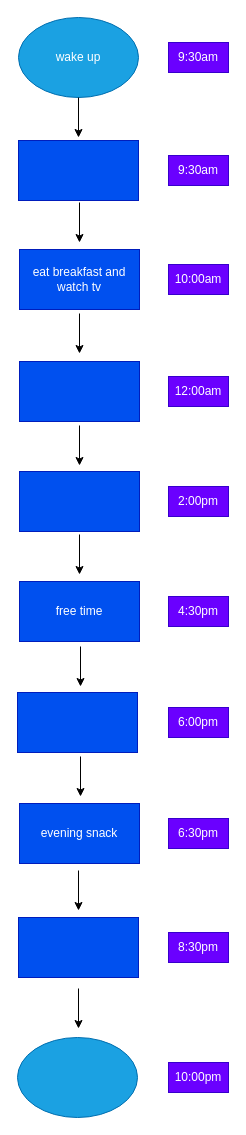
Image size: 246x1135. Some labels were removed from this diagram. Here are the shapes that lost their labels. From the top down, the centre of each, then its label:
At point (78, 170): "brush teeth/take bath".
At point (79, 391): "study".
At point (79, 501): "lunch and watch tv".
At point (77, 722): "outdoor game".
At point (78, 947): "dinner".
At point (77, 1077): "sleep time".
